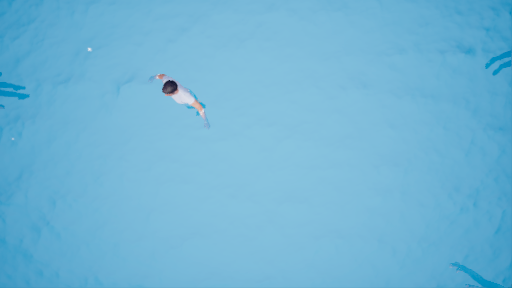person: (145, 73, 214, 130)
